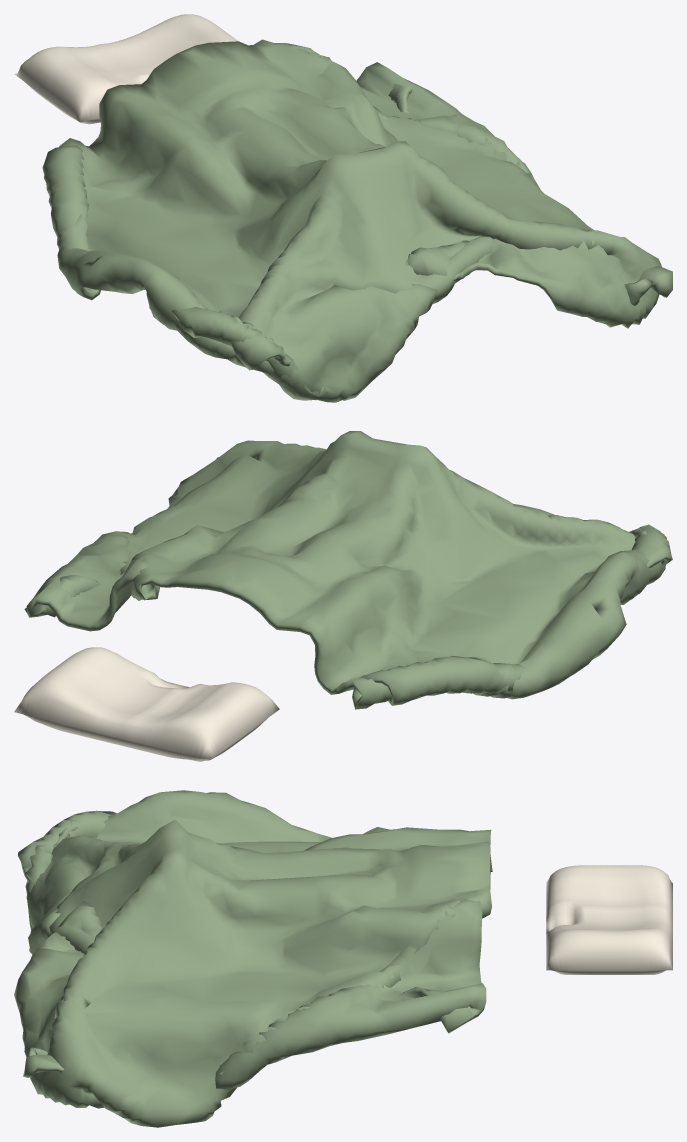
File: bedding-south-park.glb
The picture shows the model from 3 angles, top to bottom: view 1: azimuth 30°, elevation 25°; view 2: azimuth 150°, elevation 25°; view 3: azimuth 270°, elevation 25°; orthographic projection. The views are drawn at different scales.
Visible parts, largest first — view 1: sleep_duvet_south-park, sleep_pillow_south-park; view 2: sleep_duvet_south-park, sleep_pillow_south-park; view 3: sleep_duvet_south-park, sleep_pillow_south-park.
Part boxes in pixels (x1,y1,x2,y2): sleep_duvet_south-park: [42, 39, 672, 402]; sleep_pillow_south-park: [14, 14, 237, 124]; sleep_duvet_south-park: [24, 431, 672, 709]; sleep_pillow_south-park: [14, 647, 279, 761]; sleep_duvet_south-park: [14, 790, 492, 1127]; sleep_pillow_south-park: [546, 865, 672, 974].
Size of the model in its own units: 1.93 by 0.704 by 2.29.
